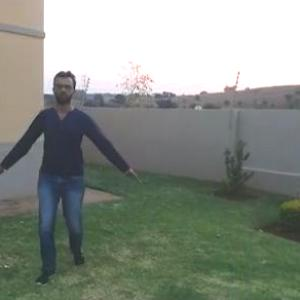land: (0, 70, 139, 266)
